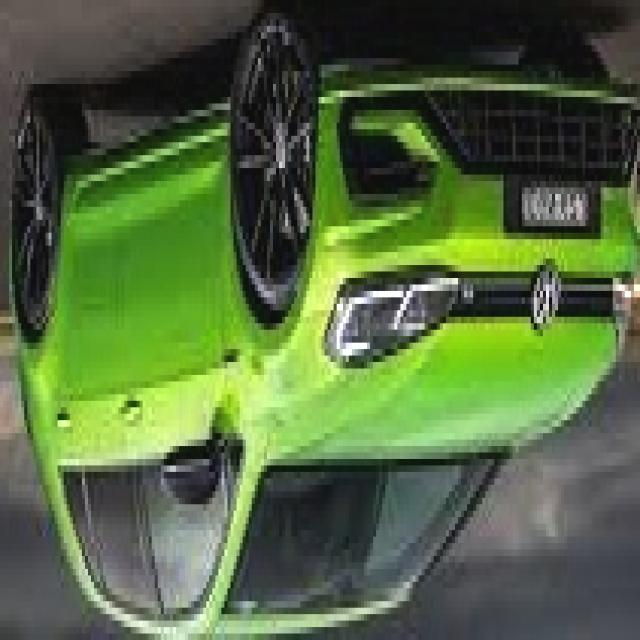green: (9, 20, 640, 639)
